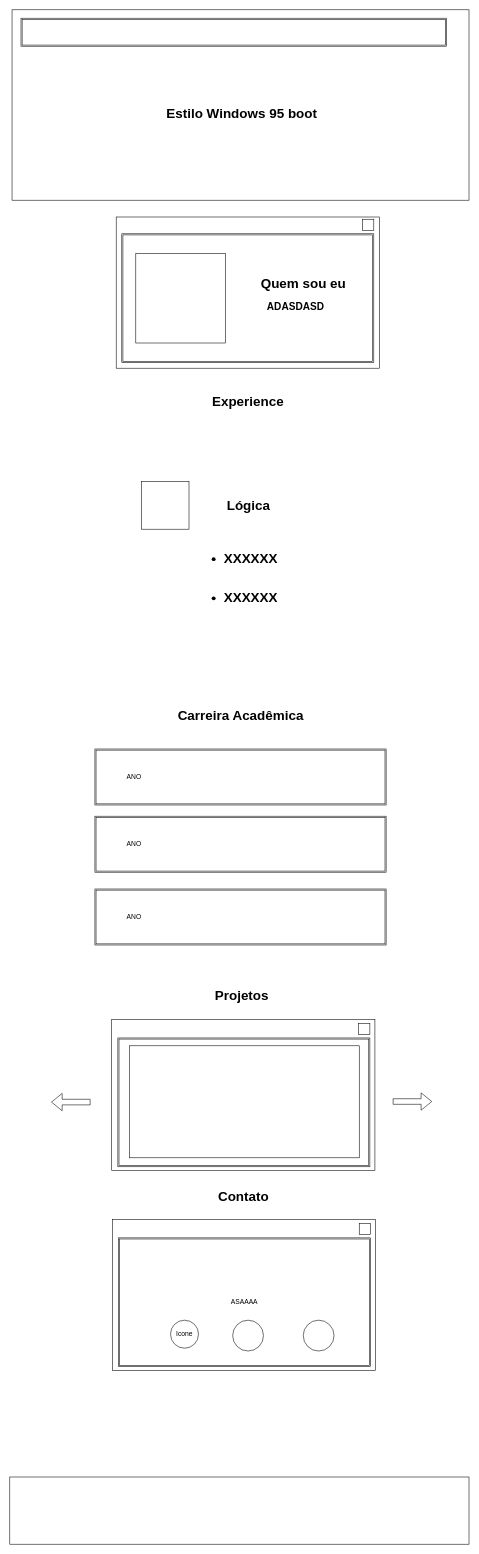
Some shapes in this 479 by 1554 pixel diagram are drawn without their labels. Here are the shapes that lost their labels. From the top down, the centre of each, then its label:
pixel 233 32: Menu
pixel 244 1101: Foto projeto
pixel 239 1510: Footer
